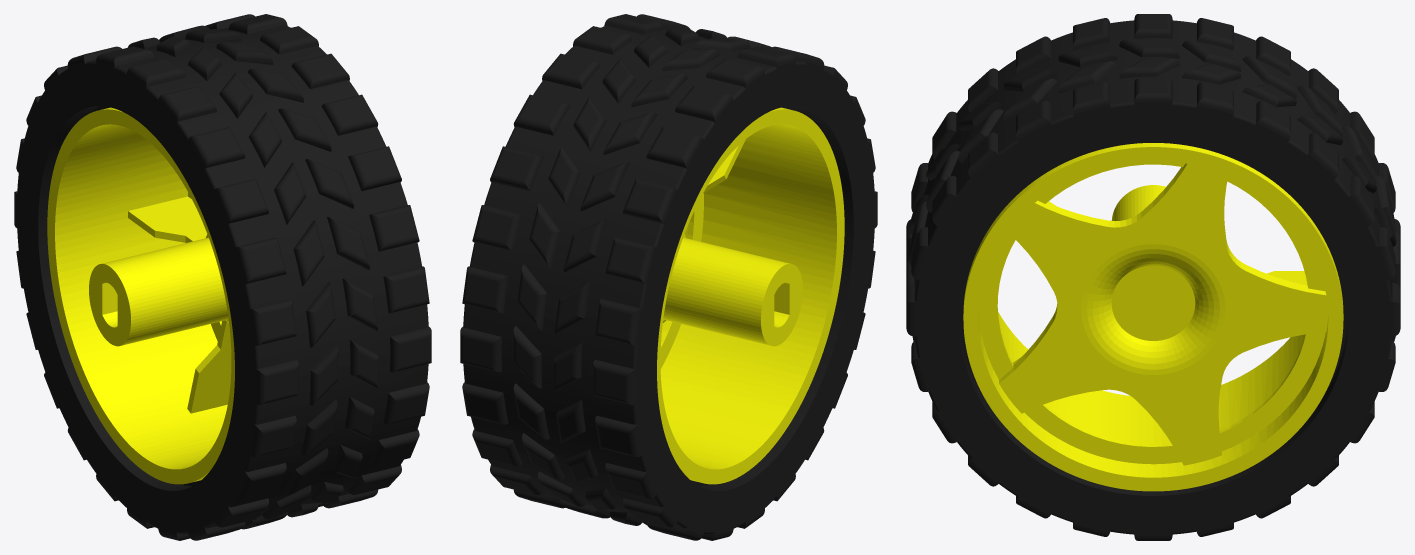
The model's file is Roue_65mm.dae.
The picture shows the model from 3 angles, left to right: view 1: azimuth 30°, elevation 25°; view 2: azimuth 150°, elevation 25°; view 3: azimuth 270°, elevation 25°; orthographic projection.
Parts seen in each view (by area): view 1: Part 1 (×2); view 2: Part 1 (×2); view 3: Part 1 (×2).
Part boxes in pixels (x1,y1,x2,y2): Part 1 (×2): (14, 14, 431, 540); Part 1 (×2): (460, 14, 877, 540); Part 1 (×2): (906, 14, 1400, 540).
Bounding box in the file's own units: 0.03 × 0.065 × 0.065.
